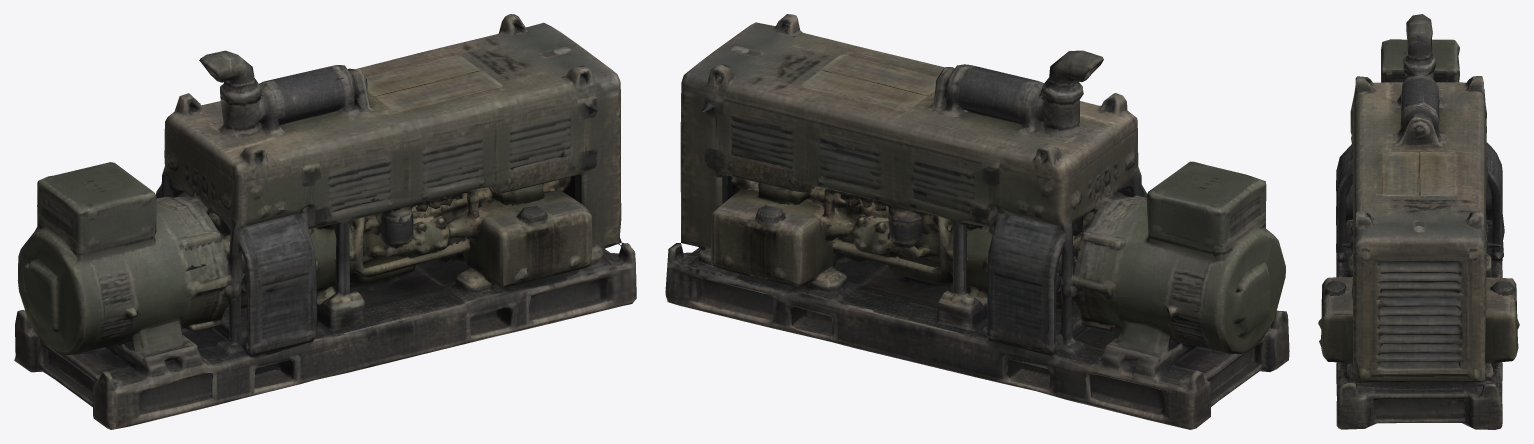
Rendered from bunker_diesel_generator.glb.
3 views of the same model, side by side, from view 1: azimuth 30°, elevation 25°; view 2: azimuth 150°, elevation 25°; view 3: azimuth 270°, elevation 25° (orthographic). The views are drawn at different scales.
Parts seen in each view (by area): view 1: BunkerDieselGenerator; view 2: BunkerDieselGenerator; view 3: BunkerDieselGenerator.
Boxes of the visible parts, x1,y1,x2,y2 form: BunkerDieselGenerator: (14,14,636,429); BunkerDieselGenerator: (665,14,1289,429); BunkerDieselGenerator: (1318,14,1519,429).
Size of the model in its own units: 3.2 by 1.7 by 1.2.
1 material, 1 textured.
